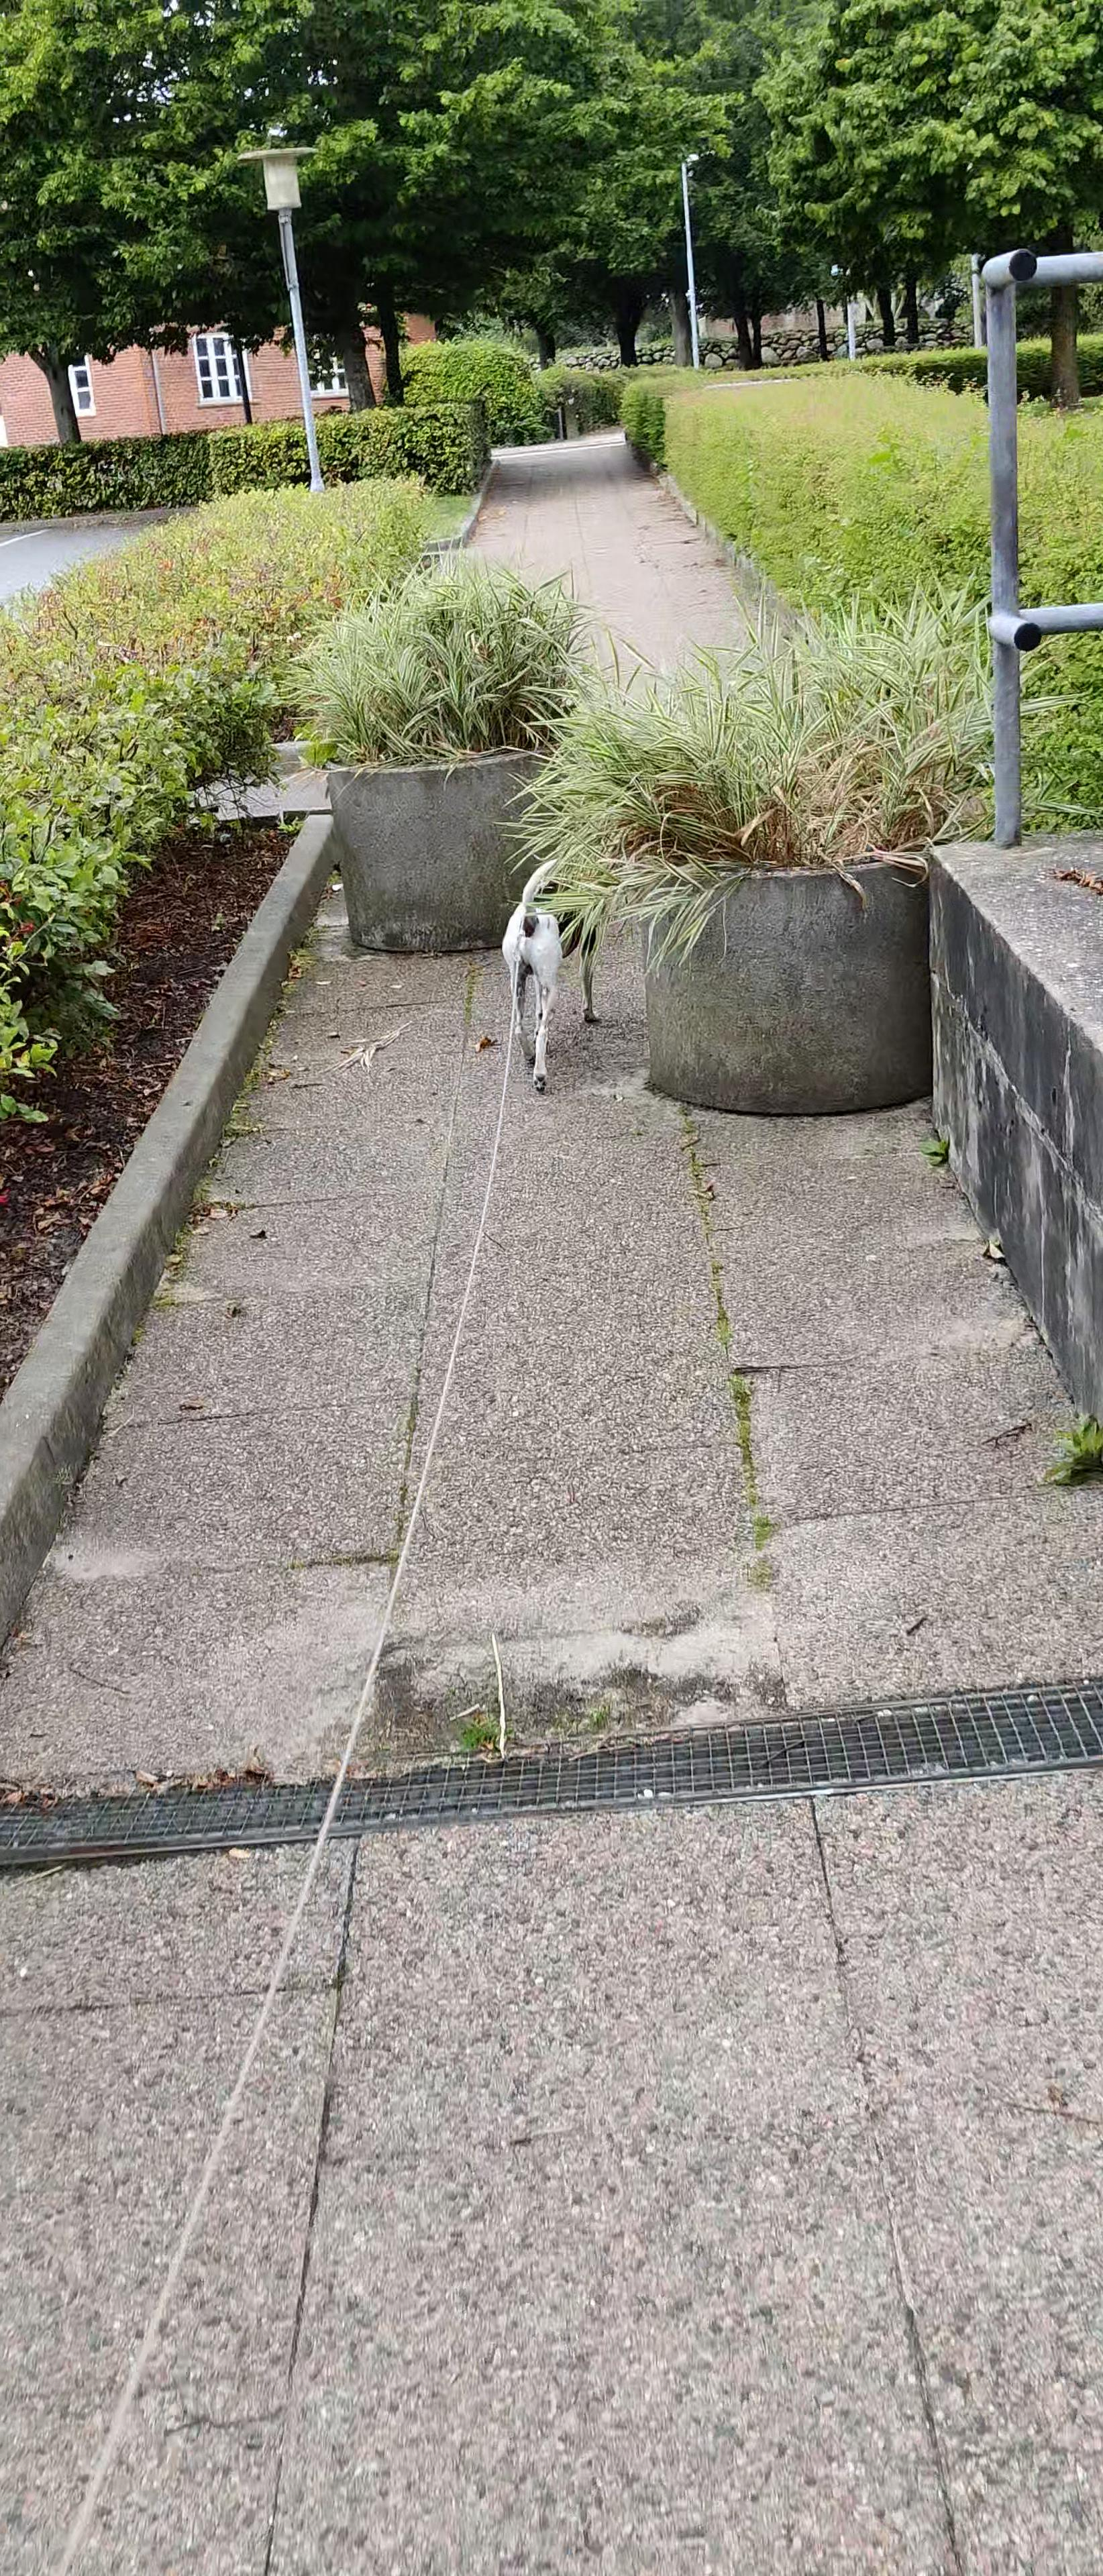Dog: (498, 856, 607, 1096)
